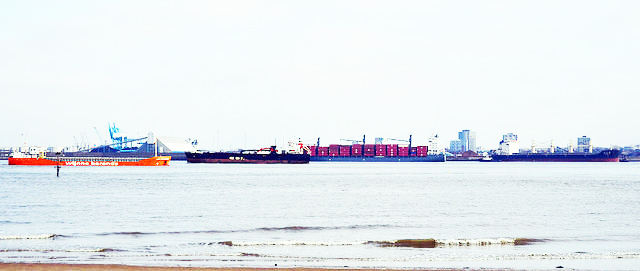bulk carrier: (493, 136, 622, 162)
container_ship: (311, 131, 446, 162)
tanker: (6, 136, 170, 170), (187, 135, 314, 167)
